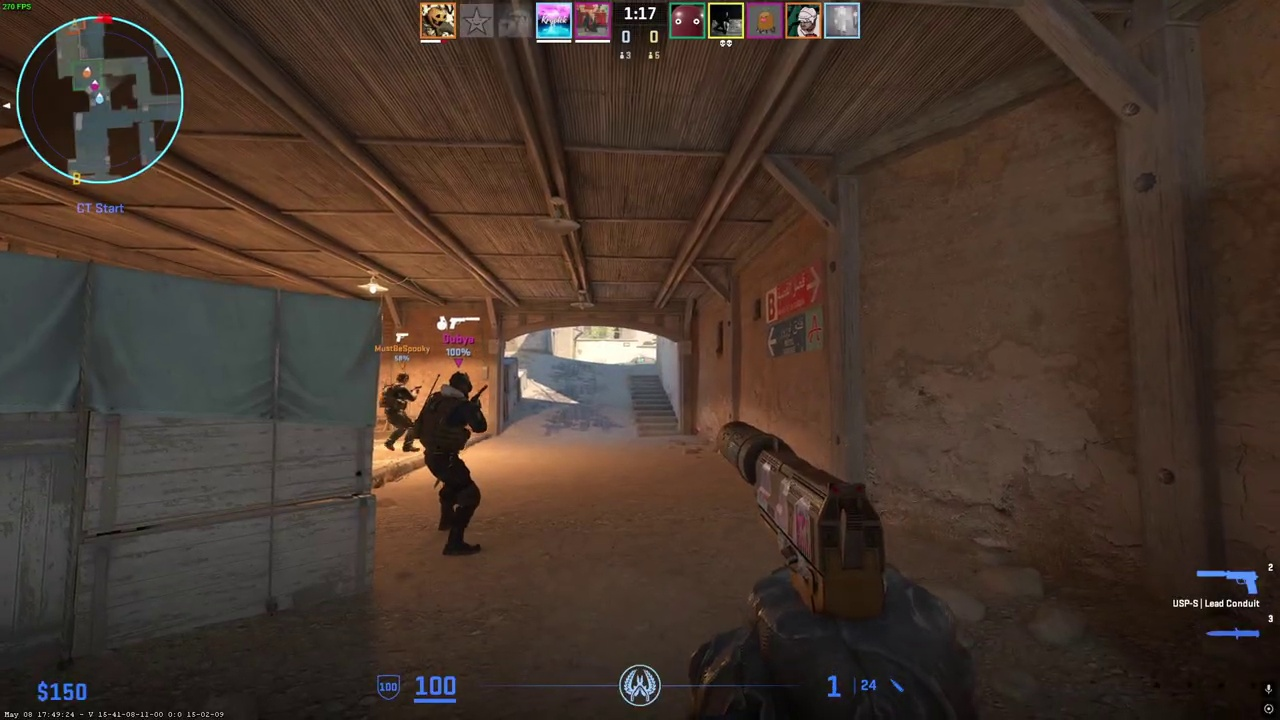CT: (421, 371, 487, 554), (380, 373, 417, 452)
